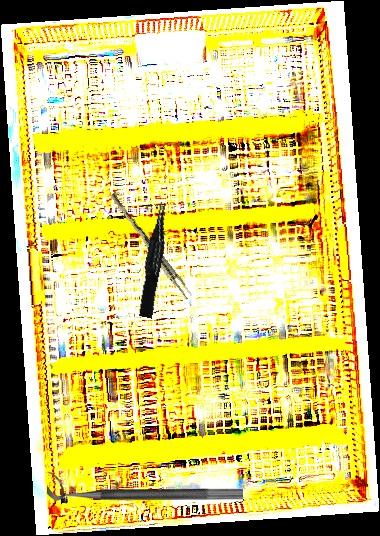Fixation Ring: (47, 471, 243, 501)
Tissue Forceps: (106, 191, 195, 301), (134, 201, 176, 319)
